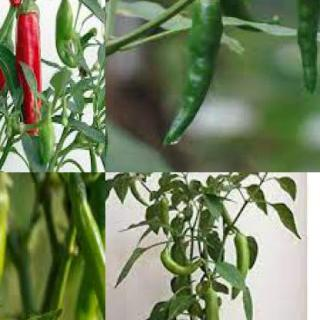green_chilli: (156, 0, 232, 146), (59, 172, 104, 320), (291, 0, 319, 96), (207, 0, 286, 32), (53, 0, 80, 67), (158, 242, 207, 276), (230, 231, 253, 300), (202, 286, 233, 319), (38, 127, 58, 163), (160, 197, 172, 238)
